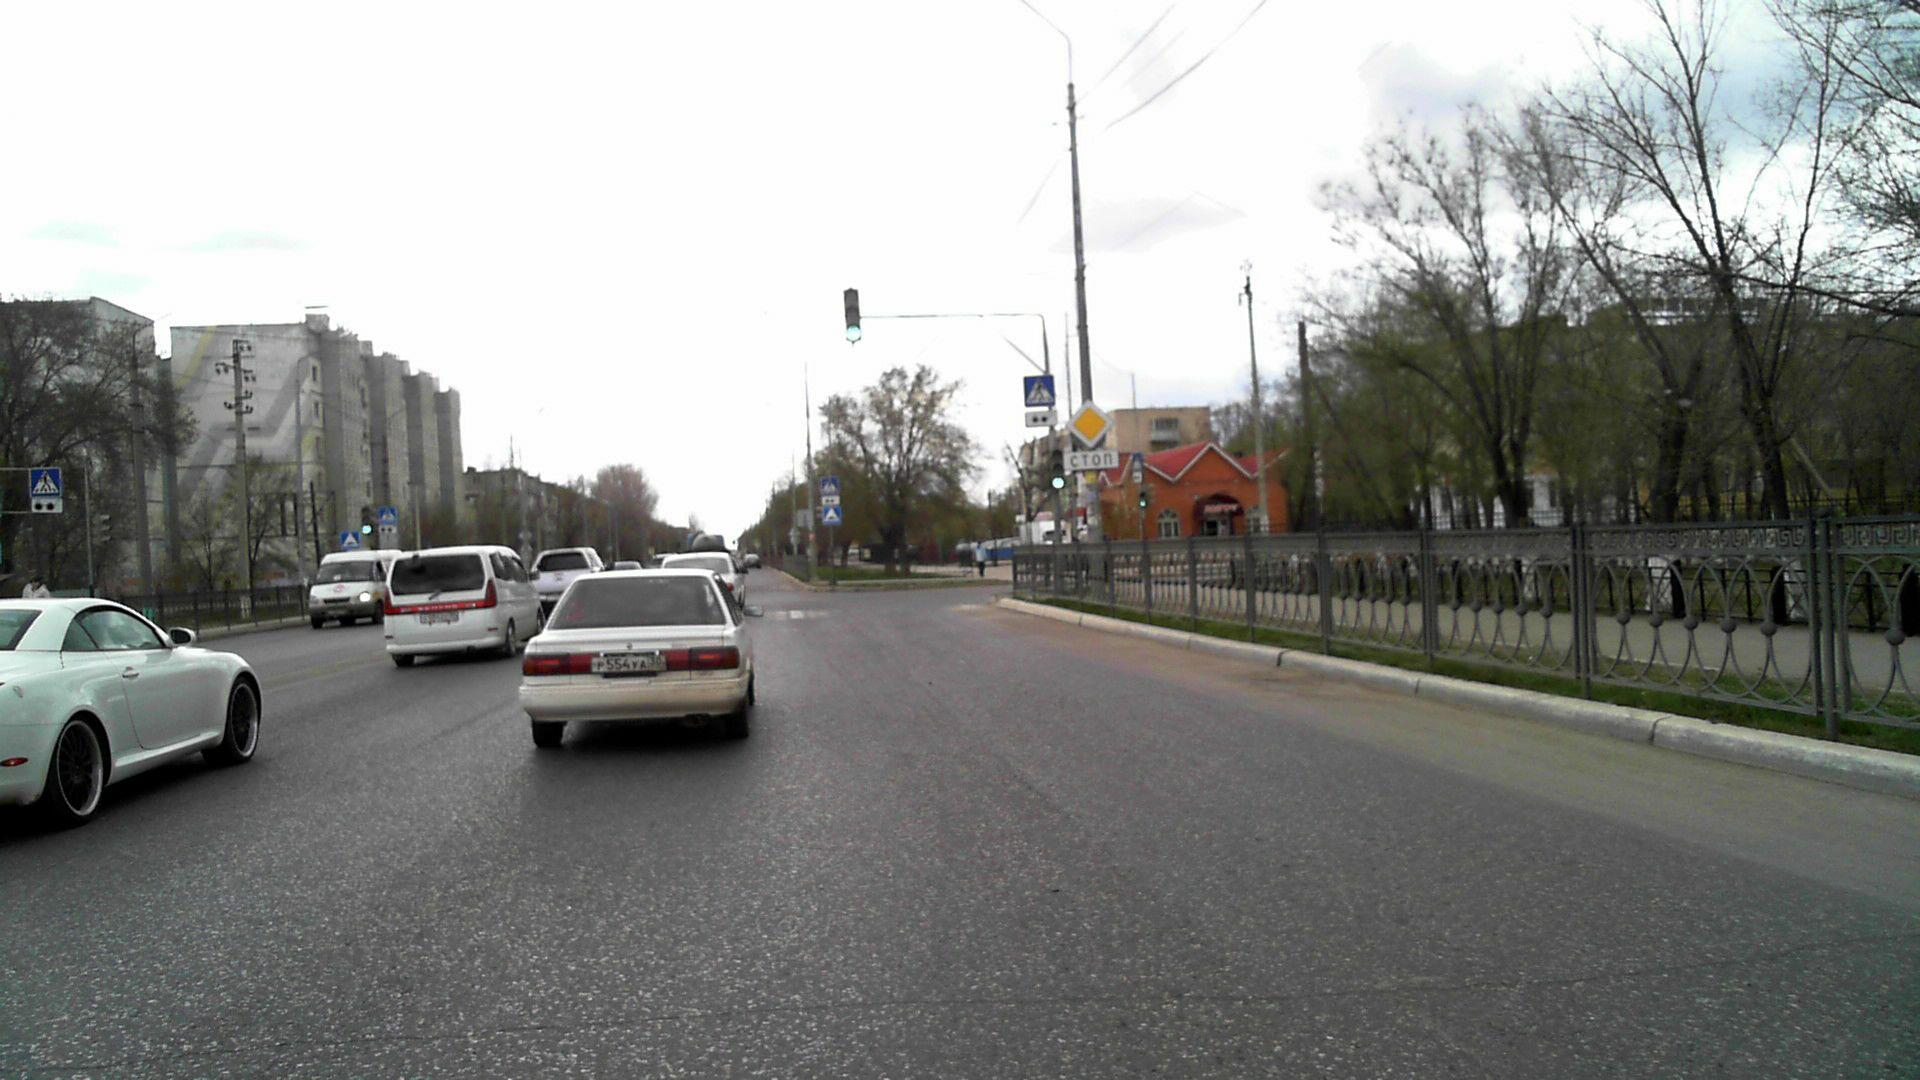2_1: (1064, 398, 1112, 447)
5_19_1: (1023, 376, 1056, 406), (823, 476, 837, 493)
5_19_2: (380, 506, 397, 522), (1130, 451, 1143, 471)
5_20: (340, 530, 359, 549), (823, 506, 841, 524)
6_16: (1062, 451, 1120, 469)
8_15: (1026, 409, 1058, 425), (380, 524, 398, 534), (823, 496, 840, 505), (1131, 472, 1143, 481)
